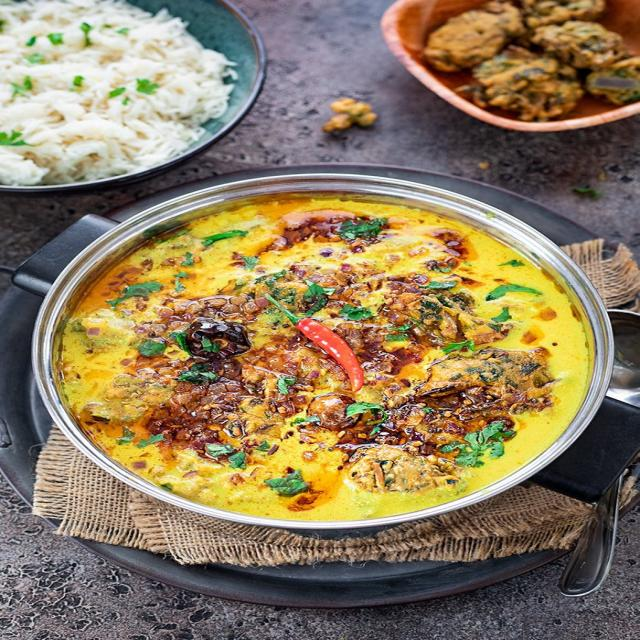Kadhi Pakora: (53, 196, 586, 522)
